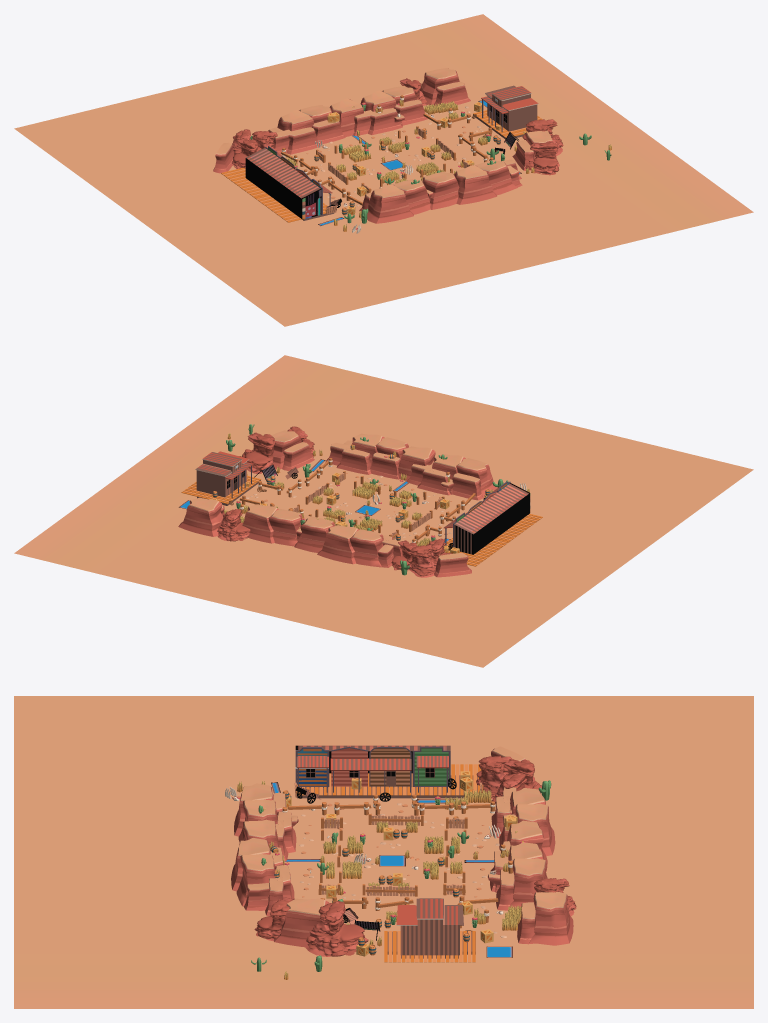
The model's file is beraEnvironment.fbx.
3 renders of one model, top to bottom at view 1: azimuth 30°, elevation 25°; view 2: azimuth 150°, elevation 25°; view 3: azimuth 270°, elevation 25°, orthographic. The views are drawn at different scales.
Parts seen in each view (by area): view 1: Floor1_1, Cube.034, Cube.001, Cube.038, cliff02_1, cliff02__2_, cliff02__4__1, ulbwebv_LOD0_TIER2_000, cliff02.001, cliff02__3_, cliff02__1__1, cliff02__4_ (+8 smaller); view 2: Floor1_1, Cube.001, Cube.038, cliff02.001, Cube.034, cliff02__2__1, cliff02__3__1, cliff02, ulbwebv_LOD0_TIER2_000.001, cliff02__1_, cliff02__4_, cliff02__4__1 (+12 smaller); view 3: Floor1_1, Cube.001, ulbwebv_LOD0_TIER2_000.001, cliff02.001, cliff02__2_.001, Cube, cliff02, Cube.025, cliff02__3_, Cube.031, cliff02__2__1, ulbwebv_LOD0_TIER2_000.003 (+19 smaller).
Boxes of the visible parts, x1=… form: Floor1_1: x1=14, y1=14, x2=753, y2=326; Cube.034: x1=245, y1=158, x2=321, y2=219; Cube.001: x1=485, y1=85, x2=538, y2=131; Cube.038: x1=246, y1=148, x2=321, y2=198; cliff02_1: x1=367, y1=184, x2=413, y2=223; cliff02__2_: x1=454, y1=165, x2=496, y2=204; cliff02__4__1: x1=422, y1=171, x2=459, y2=209; ulbwebv_LOD0_TIER2_000: x1=525, y1=141, x2=559, y2=175; cliff02.001: x1=420, y1=68, x2=459, y2=105; cliff02__3_: x1=475, y1=159, x2=517, y2=195; cliff02__1__1: x1=393, y1=179, x2=430, y2=214; cliff02__4_: x1=330, y1=98, x2=363, y2=136; Floor1_1: x1=14, y1=355, x2=753, y2=667; Cube.001: x1=195, y1=451, x2=249, y2=497; Cube.038: x1=454, y1=483, x2=529, y2=534; cliff02.001: x1=178, y1=497, x2=223, y2=536; Cube.034: x1=473, y1=493, x2=530, y2=554; cliff02__2__1: x1=317, y1=525, x2=359, y2=564; cliff02__3__1: x1=350, y1=529, x2=383, y2=567; cliff02: x1=242, y1=504, x2=278, y2=543; ulbwebv_LOD0_TIER2_000.001: x1=241, y1=432, x2=275, y2=473; cliff02__1_: x1=268, y1=509, x2=302, y2=546; cliff02__4_: x1=294, y1=516, x2=334, y2=552; cliff02__4__1: x1=398, y1=446, x2=435, y2=480; Floor1_1: x1=14, y1=696, x2=753, y2=1008; Cube.001: x1=396, y1=898, x2=463, y2=958; ulbwebv_LOD0_TIER2_000.001: x1=305, y1=901, x2=368, y2=956; cliff02.001: x1=529, y1=892, x2=573, y2=945; cliff02__2_.001: x1=273, y1=898, x2=329, y2=947; Cube: x1=384, y1=931, x2=475, y2=962; cliff02: x1=509, y1=858, x2=547, y2=909; Cube.025: x1=389, y1=764, x2=481, y2=795; cliff02__3_: x1=236, y1=854, x2=275, y2=906; Cube.031: x1=330, y1=758, x2=411, y2=770; cliff02__2__1: x1=515, y1=803, x2=555, y2=856; ulbwebv_LOD0_TIER2_000.003: x1=476, y1=756, x2=511, y2=799.
Bounding box in the file's own units: 200 × 14.51 × 200.
3 materials, 3 textured.
